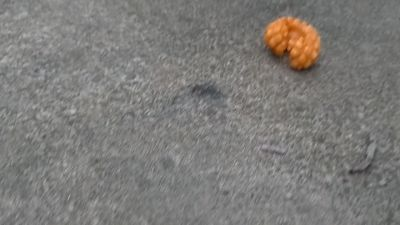eggs: (263, 15, 324, 71)
